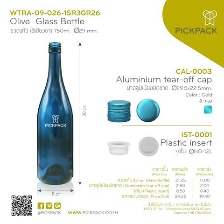bottle: (31, 36, 77, 188)
